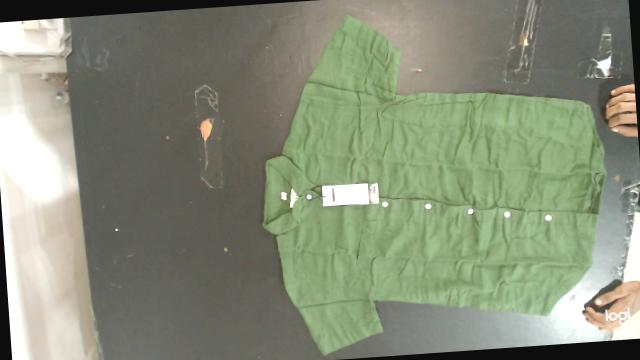new-garment: (262, 16, 605, 354)
